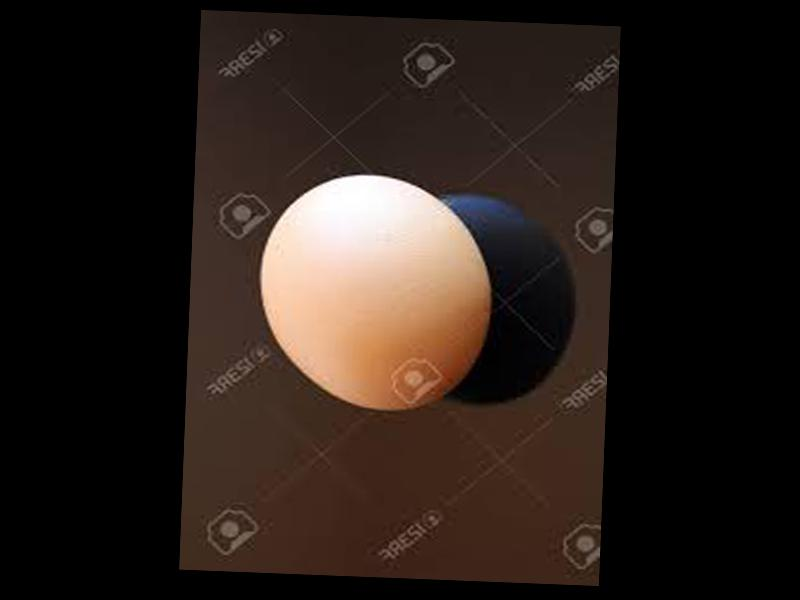Eggs: (254, 169, 498, 412)
